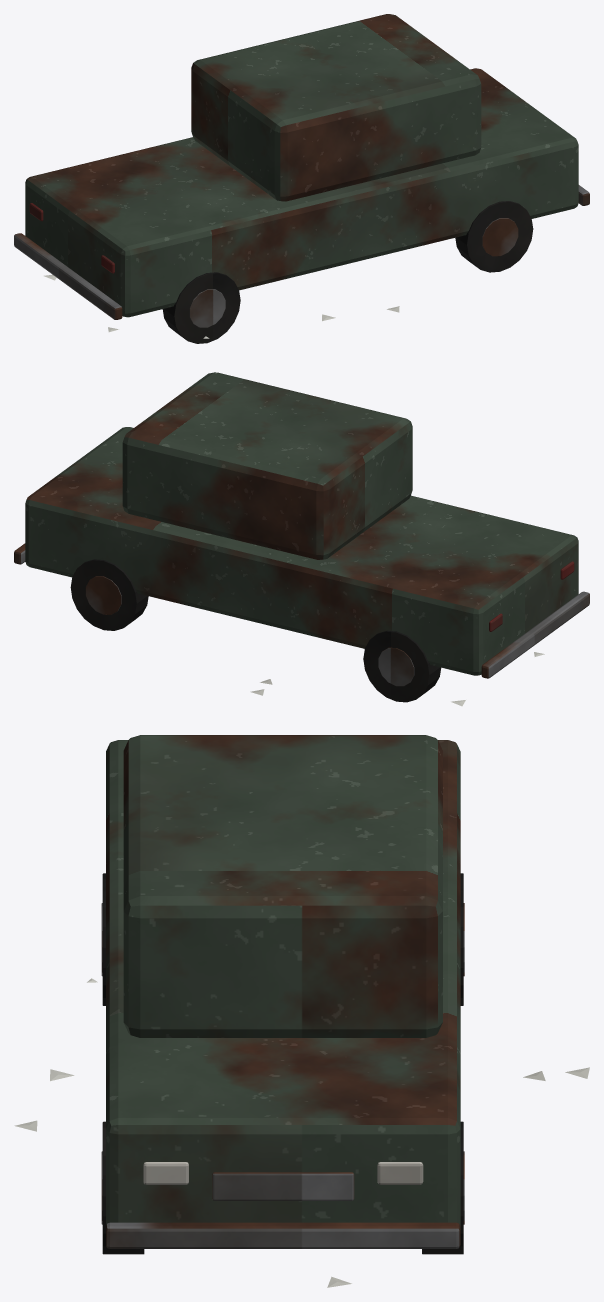
The model's file is JV05_car_smashed_windows_v2.glb.
The picture shows the model from 3 angles, top to bottom: view 1: azimuth 30°, elevation 25°; view 2: azimuth 150°, elevation 25°; view 3: azimuth 270°, elevation 25°; orthographic projection. The views are drawn at different scales.
Parts seen in each view (by area): view 1: JV05_car_smashed_windows_v2; view 2: JV05_car_smashed_windows_v2; view 3: JV05_car_smashed_windows_v2.
Part boxes in pixels (box(x1,y1,x2,y2)): JV05_car_smashed_windows_v2: box(14, 14, 589, 343); JV05_car_smashed_windows_v2: box(14, 372, 589, 706); JV05_car_smashed_windows_v2: box(14, 735, 589, 1287).
Bounding box in the file's own units: 4.4 × 1.71 × 2.65.
Materials: 6 (6 with a texture image).
